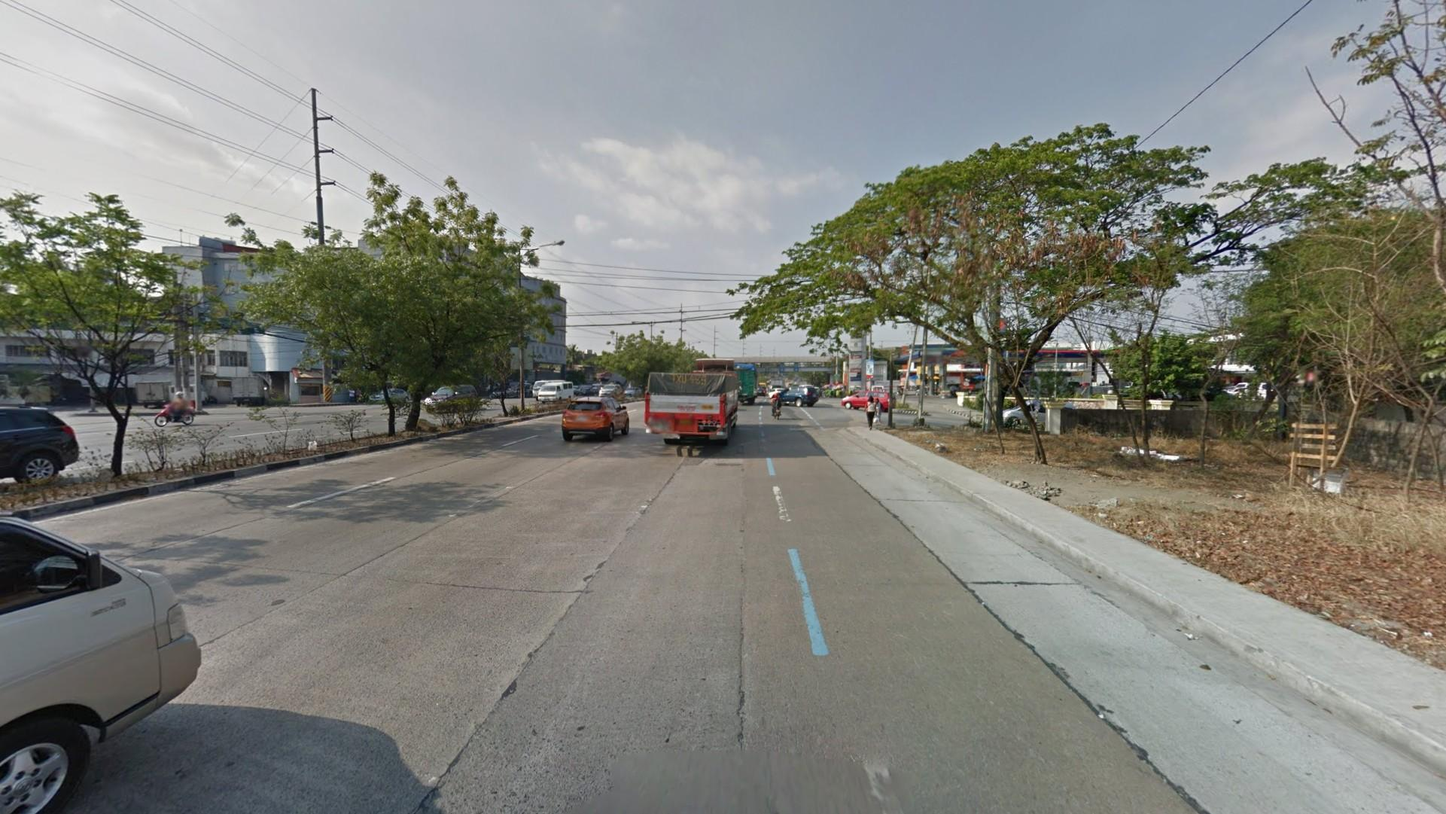pedestrian: (864, 395, 877, 431), (874, 397, 885, 424)
